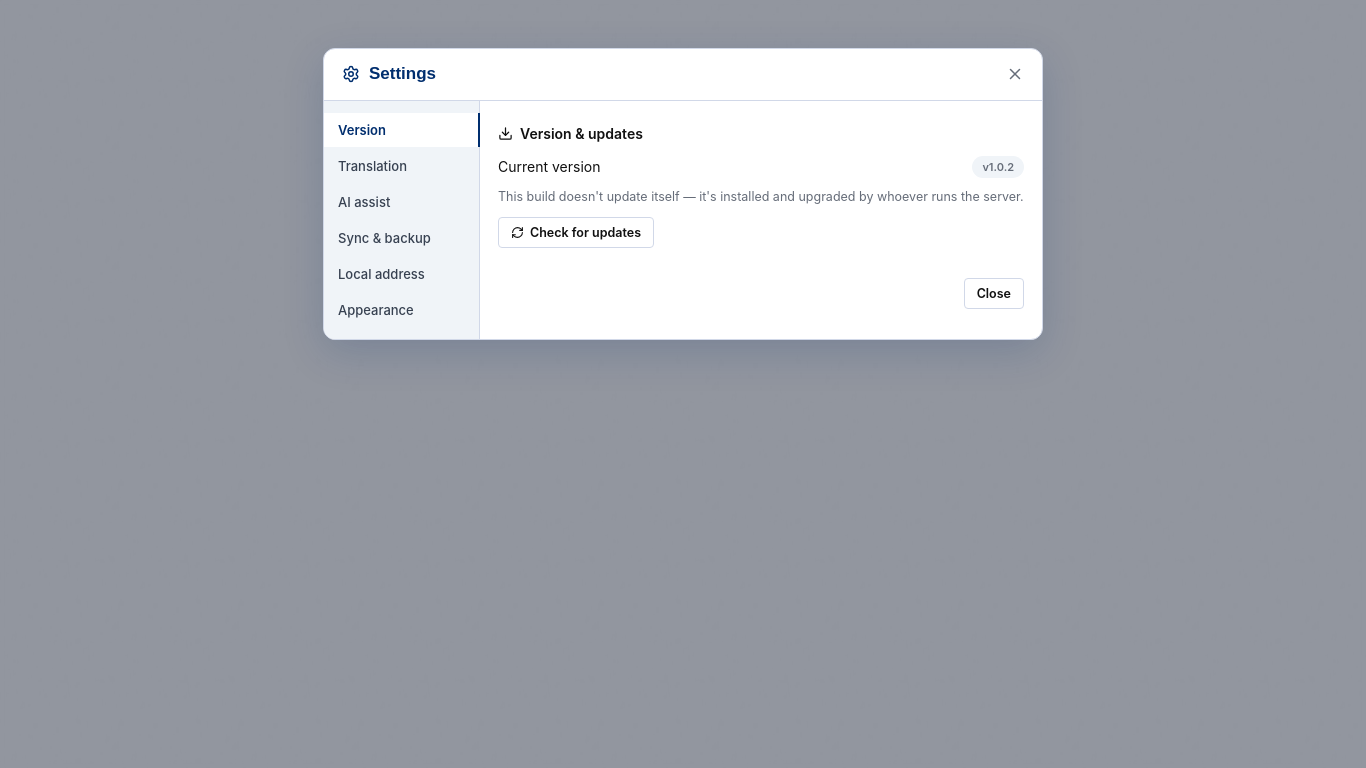
Test case: <SettingsModal> › a build that cannot install its own updates › reports an available release and how this deployment takes it
The width and height of the screenshot is (1366, 768).
What coordinates should you click on to do the following:
click the button "Check for updates"
I would click on:
 (576, 232)
Its box is [498,217,654,248].
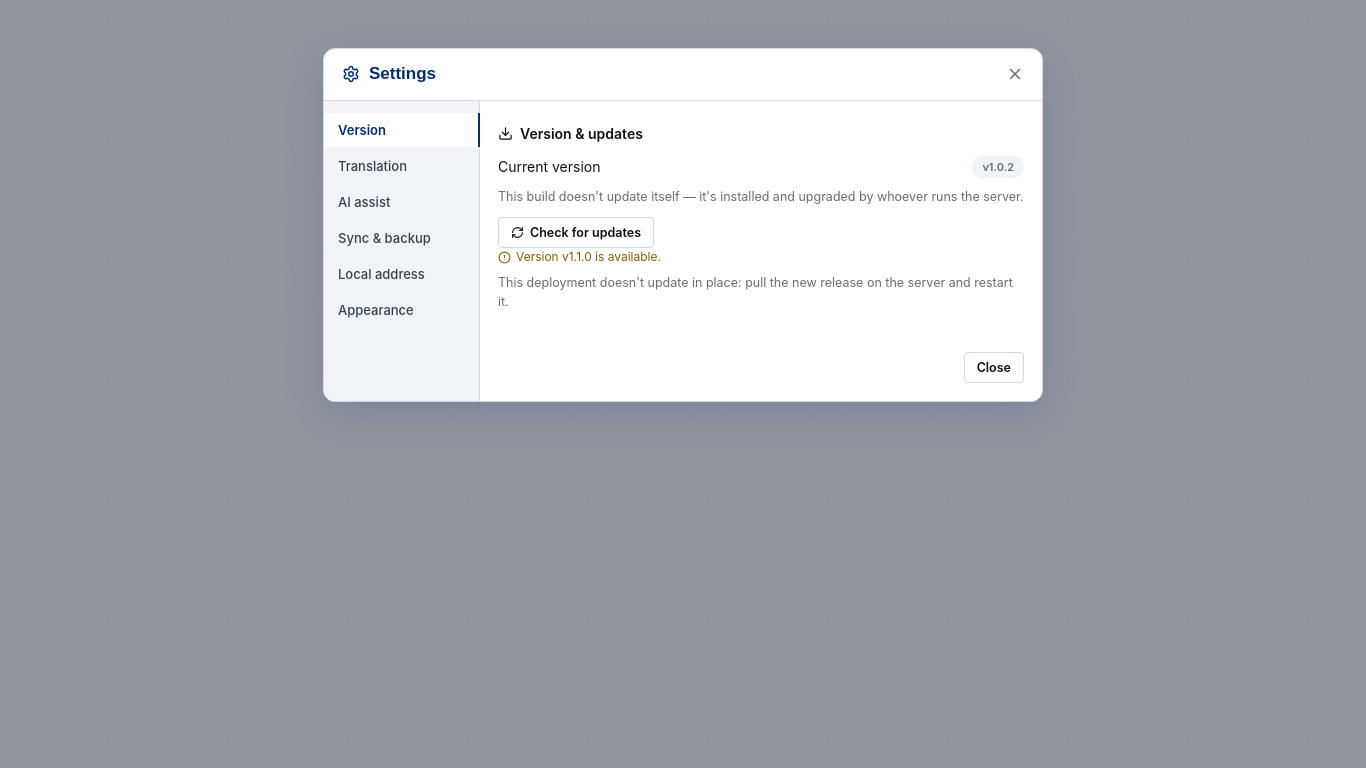
Now the text "Version v1.1.0 is available." is shown, box [498,248,661,266]
Now the text "pull the new release on the server and restart it" is shown, box [498,275,1013,309]
